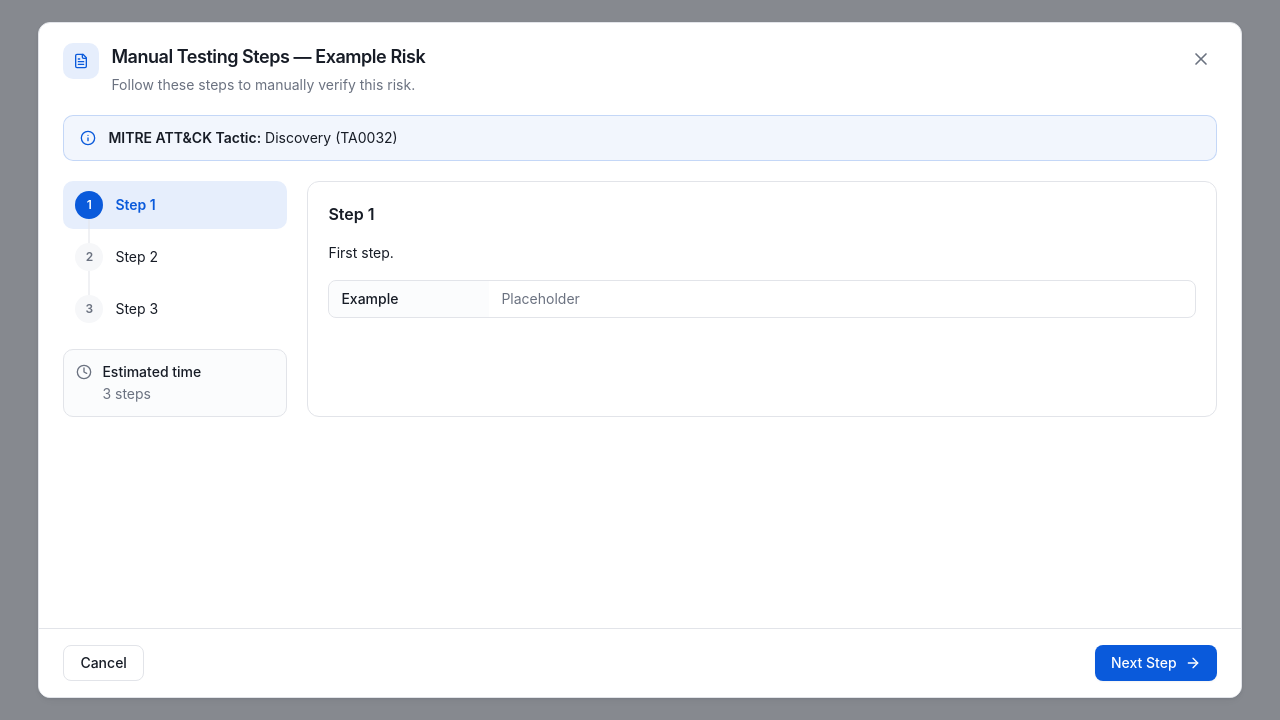
it: manual-test step navigation › moves forward with Next and back with Previous
The width and height of the screenshot is (1280, 720).
Click the button "Next Step": (1156, 663) [1095,645,1217,681]
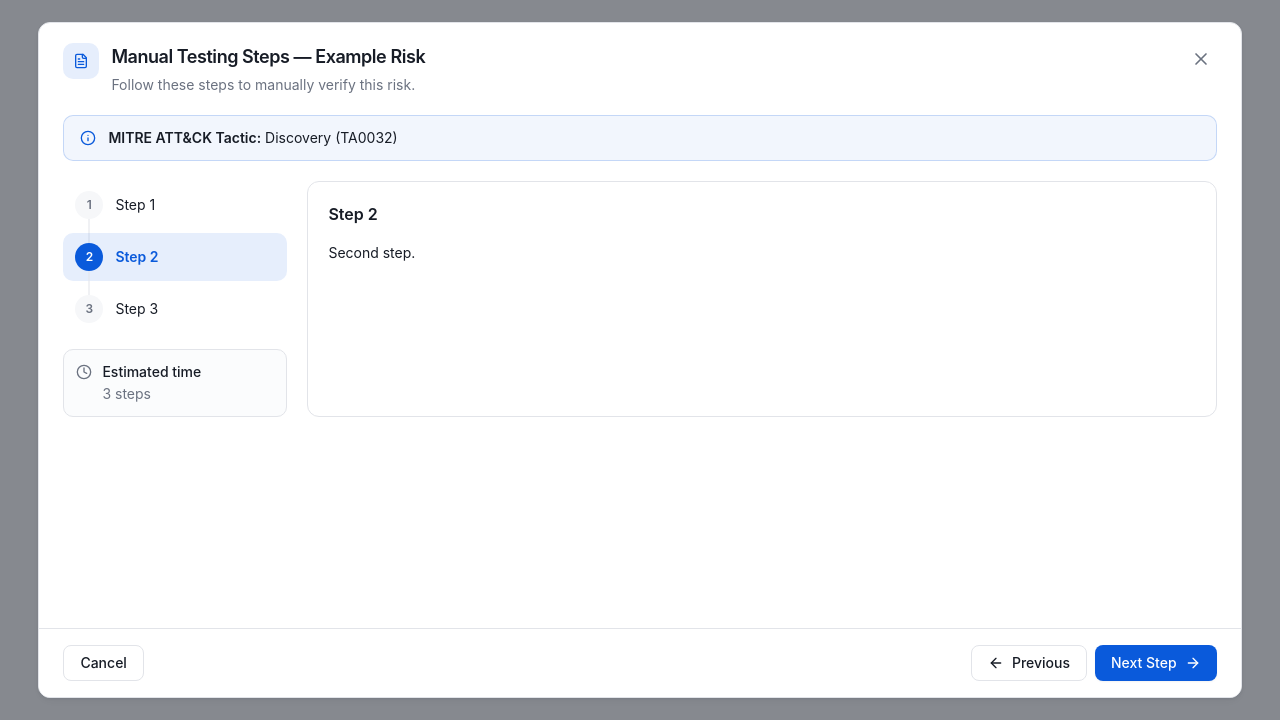
Expected: the text "Second step." is shown, [328,244,415,261]
Click the button "Previous": (1029, 663) [971,645,1087,681]
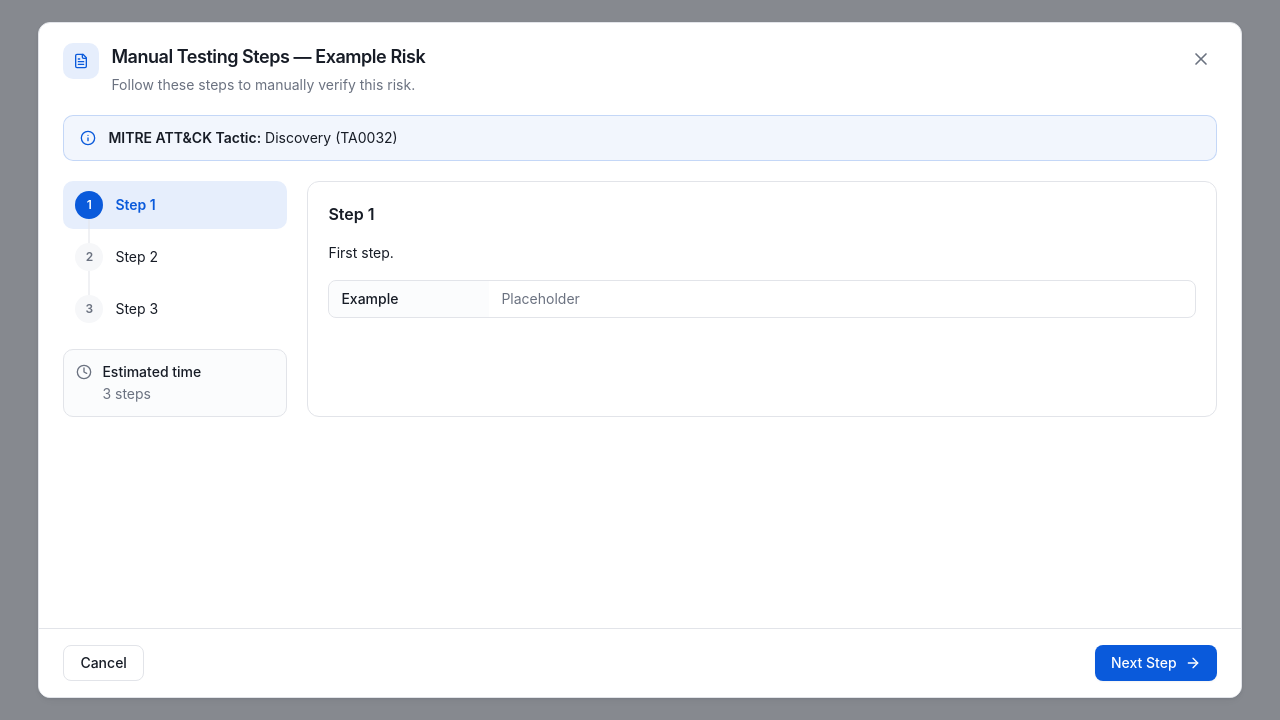
Expected: the text "First step." is shown, [328,244,394,261]
